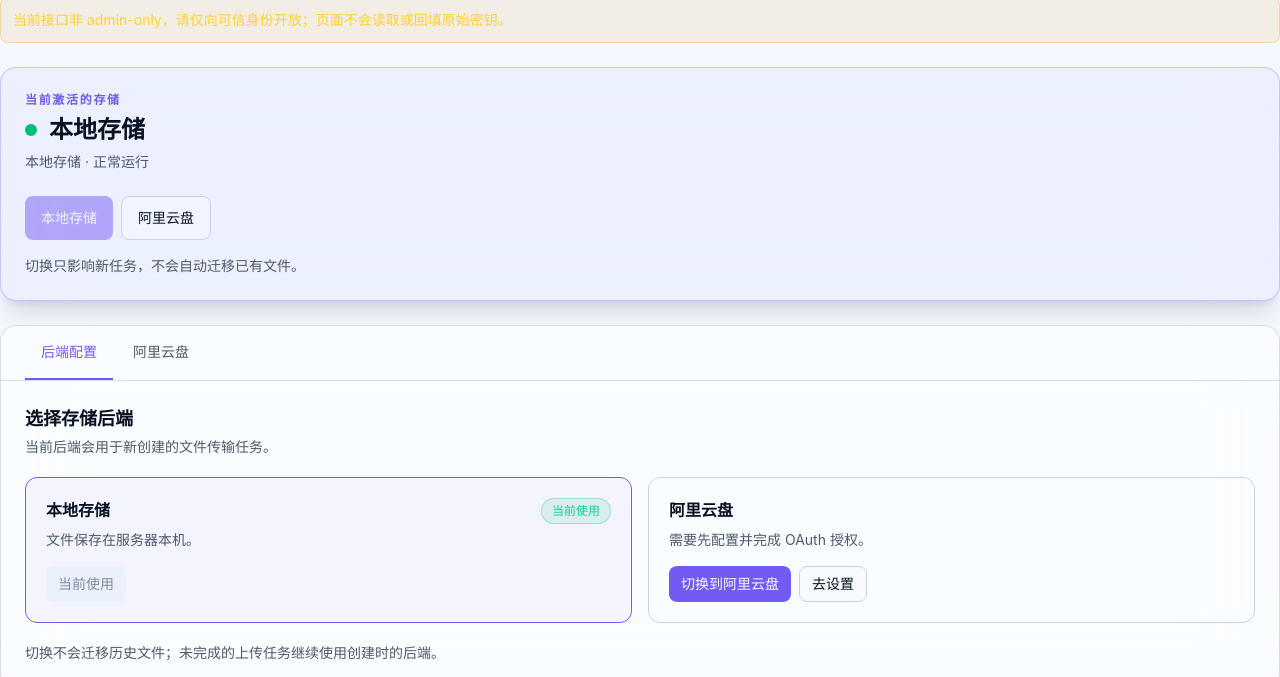
Test case: StoragePanel › uses two tabs and combines Alibaba configuration with authorization
expect the text "本地存储 · 正常运行" is shown: met, box [25, 153, 149, 170]
expect the panel shows "选择存储后端": met, box [25, 408, 133, 429]
Click the tab "阿里云盘" at coordinates (161, 353), box [117, 326, 205, 380]
(page scrolled)
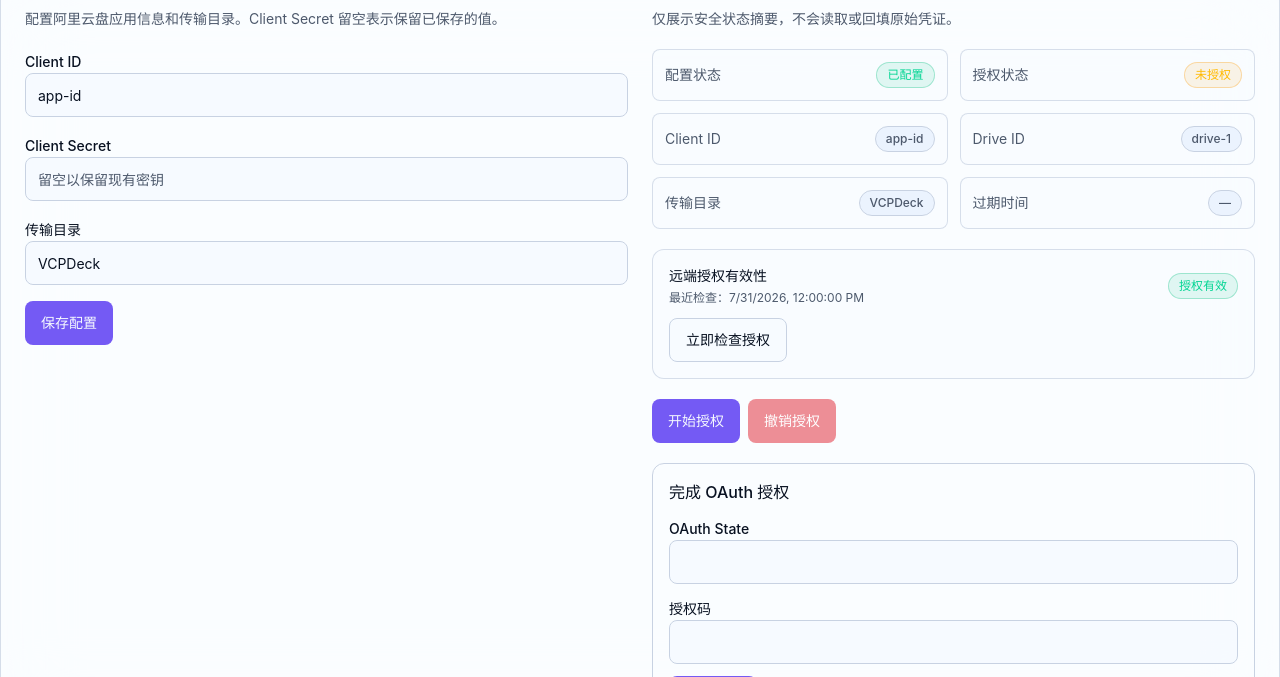
expect the panel shows "Client ID": met, box [25, 53, 81, 70]
expect the panel shows "开始授权": met, box [652, 399, 740, 443]
